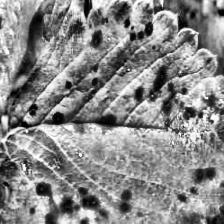Leaf Spot: (0, 0, 224, 224), (0, 0, 55, 126), (196, 15, 224, 152)
